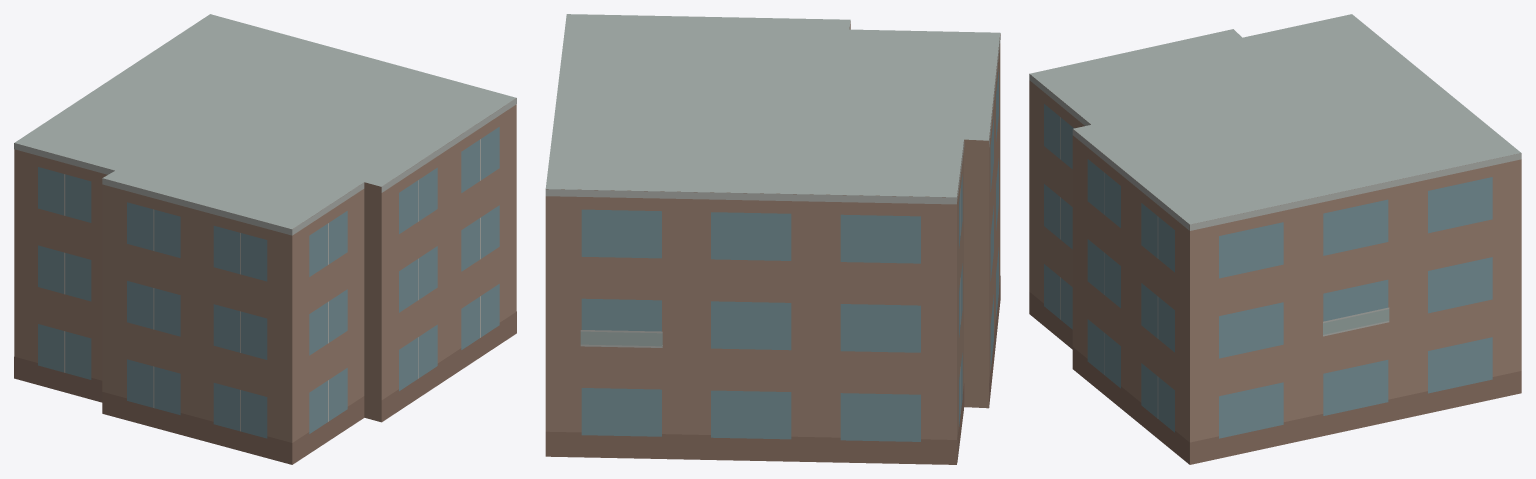
File: survey-upis-32863909.glb
The picture shows the model from 3 angles, left to right: view 1: azimuth 30°, elevation 25°; view 2: azimuth 150°, elevation 25°; view 3: azimuth 270°, elevation 25°; orthographic projection. The views are drawn at different scales.
Visible parts, largest first — view 1: survey-upis-32863909.tmp; view 2: survey-upis-32863909.tmp; view 3: survey-upis-32863909.tmp.
Boxes of the visible parts, box(x1,y1,x2,y2) form: survey-upis-32863909.tmp: box(14, 14, 516, 464); survey-upis-32863909.tmp: box(545, 14, 1000, 464); survey-upis-32863909.tmp: box(1029, 14, 1521, 464).
Size of the model in its own units: 17.21 by 9.15 by 16.99.
